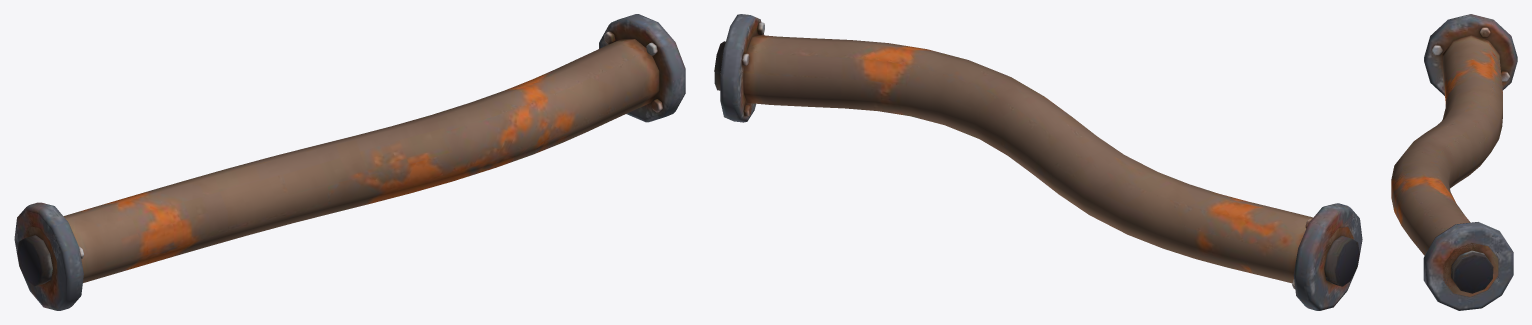
Rendered from pipe.glb.
The picture shows the model from 3 angles, left to right: view 1: azimuth 30°, elevation 25°; view 2: azimuth 150°, elevation 25°; view 3: azimuth 270°, elevation 25°; orthographic projection. The views are drawn at different scales.
Parts seen in each view (by area): view 1: body; view 2: body; view 3: body.
Boxes of the visible parts, x1,y1,x2,y2 form: body: (14, 14, 685, 310); body: (714, 14, 1362, 310); body: (1391, 14, 1517, 310).
Size of the model in its own units: 1.46 by 0.3157 by 0.2967.
Materials: 1 (1 with a texture image).
